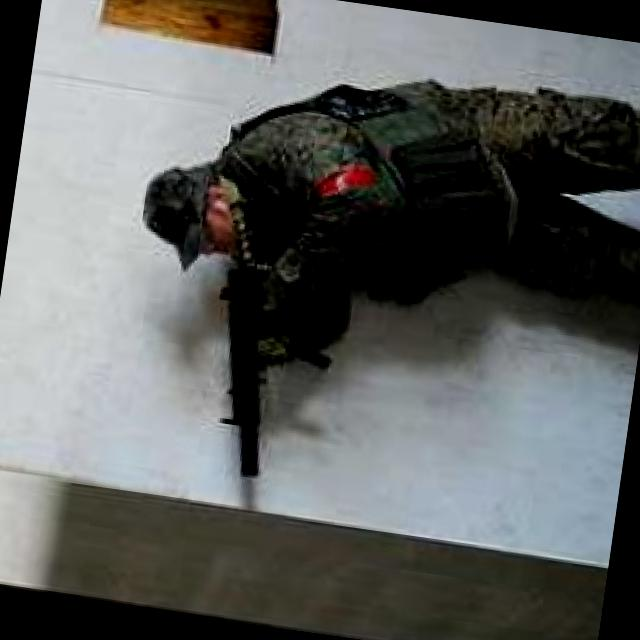long weapon: (192, 262, 328, 490)
